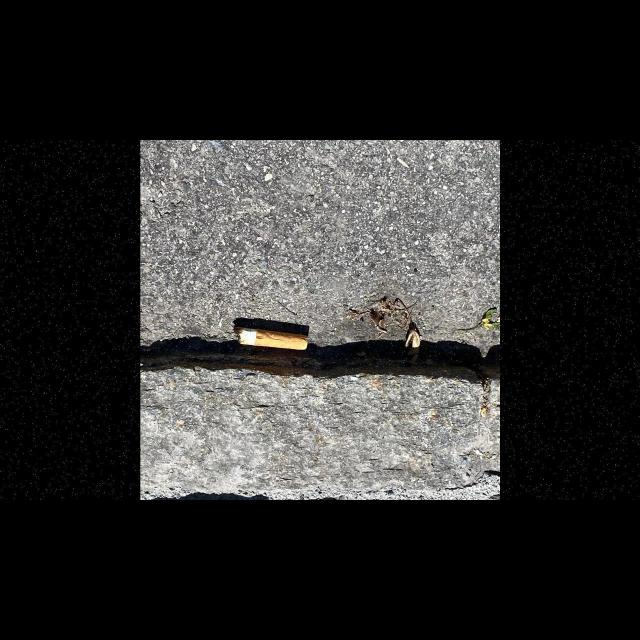cigarette: (232, 326, 308, 351)
